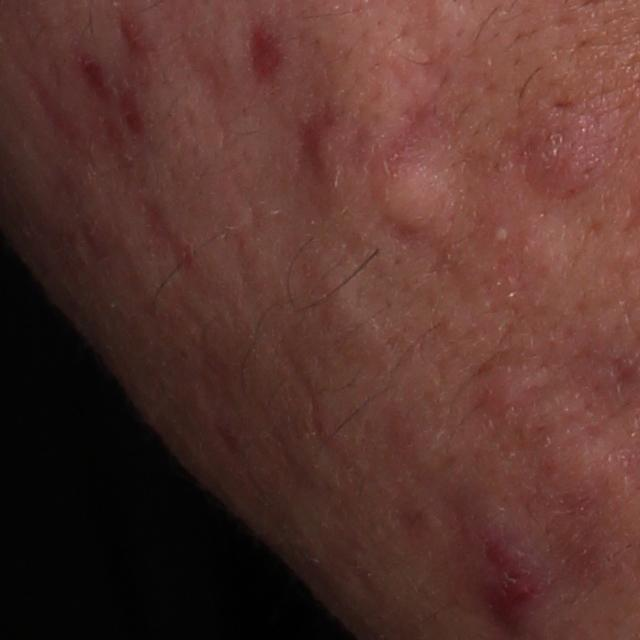atrophic_scar: (138, 194, 194, 269), (251, 17, 286, 88), (72, 44, 113, 100), (120, 71, 149, 148)
hypertrophic_scar: (529, 413, 634, 527), (310, 242, 385, 362), (369, 158, 454, 242)
papule: (524, 122, 595, 201), (468, 362, 537, 425), (295, 123, 339, 184)
